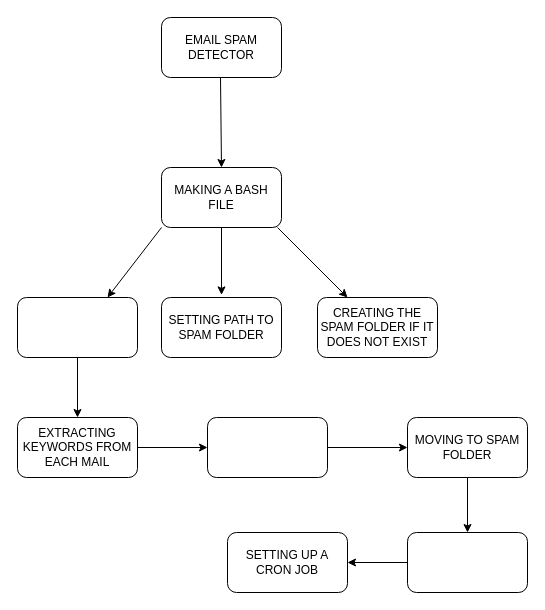
The diagram is 545 pixels wide and 610 high, and some of its shapes have lost their labels. Here are the shapes that lost their labels. From the top down, the box of each, then its label:
(16, 296, 138, 358): SETTING THE PATH TO CLIENT'S MAIL BOX
(206, 416, 328, 478): CHECKING FOR COMMON WORDS
(406, 532, 528, 592): EXECUTING THE CODE IN BASH
